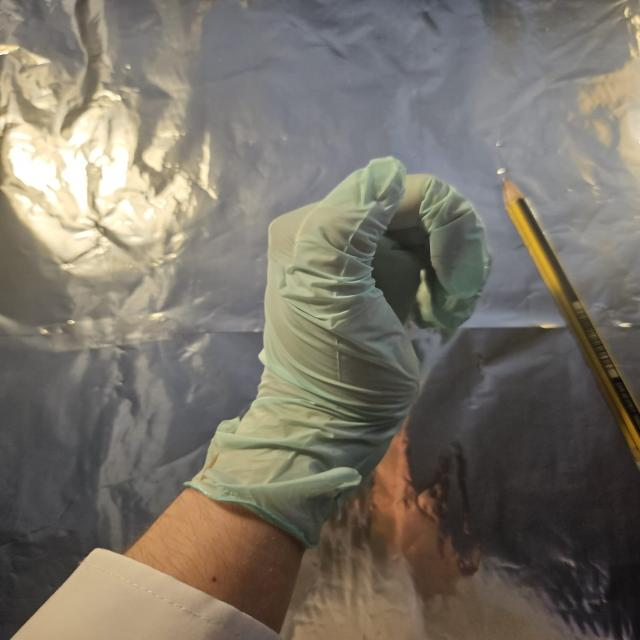gloves_damaged: (178, 152, 493, 554)
